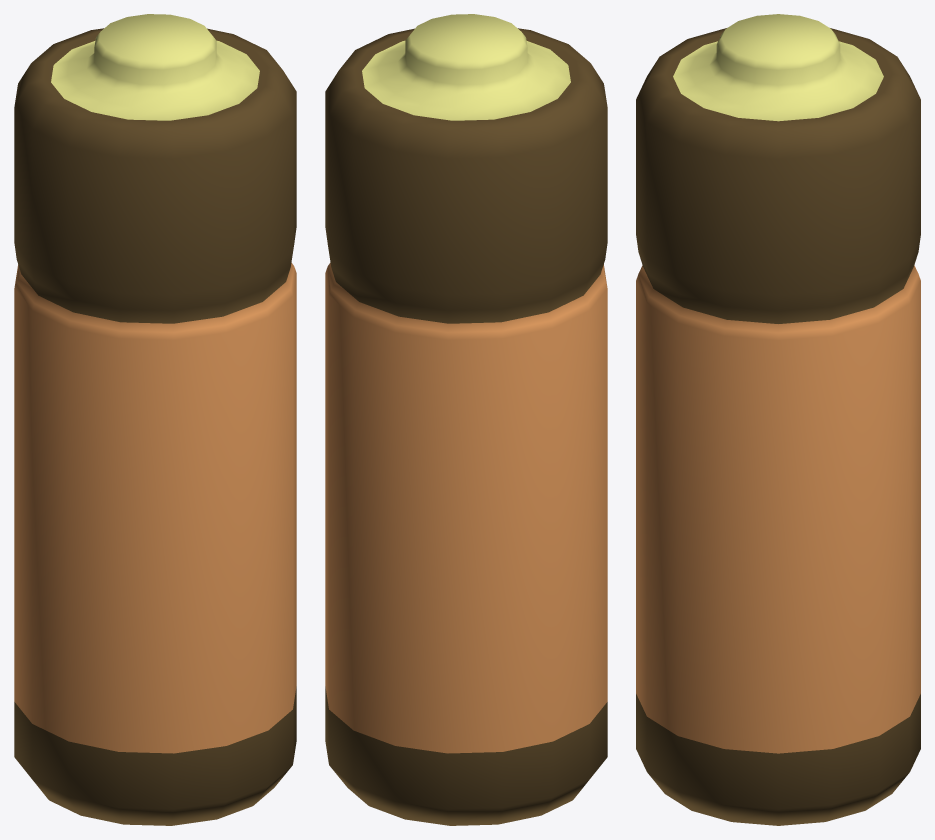
The model's file is Battery.fbx.
3 views of the same model, side by side, from view 1: azimuth 30°, elevation 25°; view 2: azimuth 150°, elevation 25°; view 3: azimuth 270°, elevation 25° (orthographic).
Parts seen in each view (by area): view 1: Battery; view 2: Battery; view 3: Battery.
Boxes of the visible parts, x1=… form: Battery: x1=14, y1=14, x2=296, y2=825; Battery: x1=325, y1=14, x2=607, y2=825; Battery: x1=636, y1=14, x2=920, y2=825.
Bounding box in the file's own units: 138 × 393 × 138.
